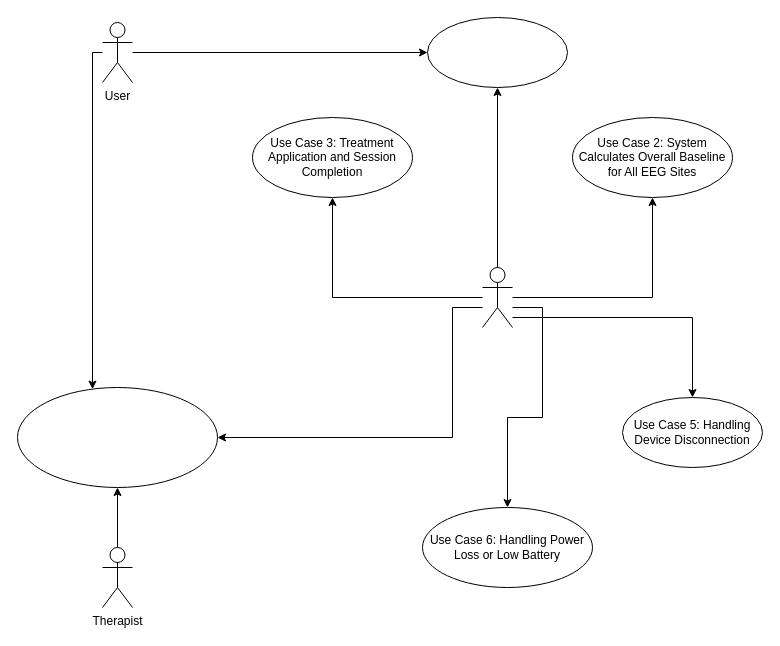
Some shapes in this 780 by 646 pixel diagram are drawn without their labels. The shapes that lost their labels are listed below. From the top down, each one's centre as x and y in pixels, then its label:
At (x=497, y=52): "Use Case 1: User Initiates Session".
At (x=497, y=297): "NFS".
At (x=117, y=437): "Use Case 4: Comprehensive Data Logging, Review, and Therapy Planning".
